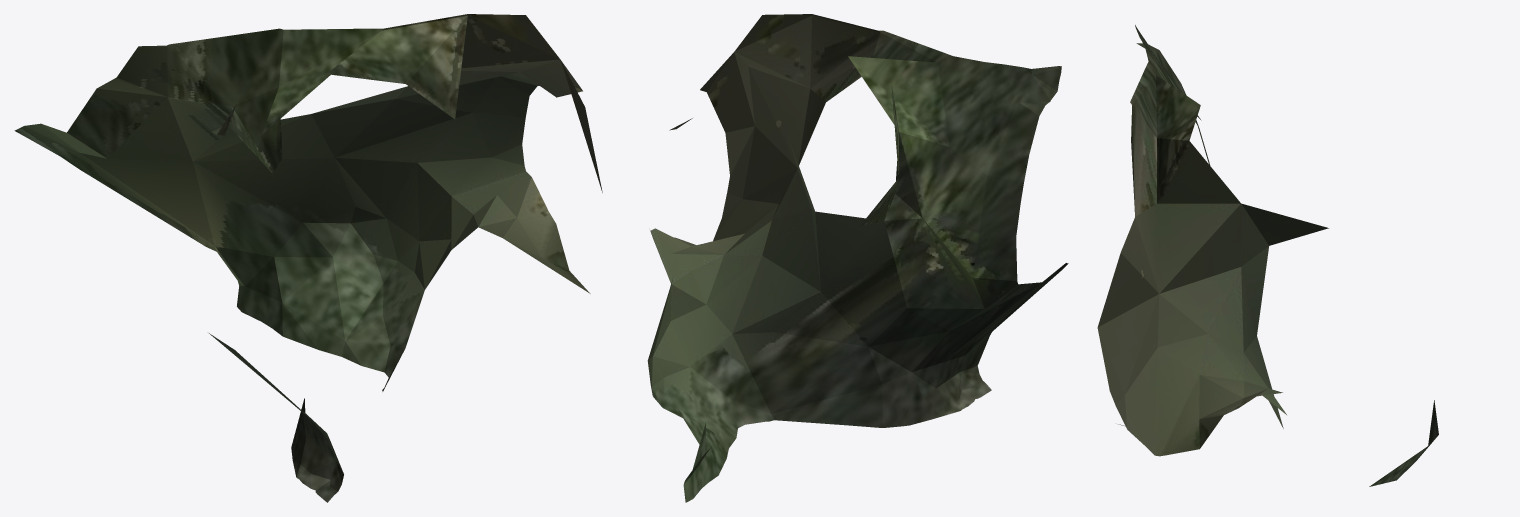
3 views of the same model, side by side, from view 1: azimuth 30°, elevation 25°; view 2: azimuth 150°, elevation 25°; view 3: azimuth 270°, elevation 25° (orthographic). The views are drawn at different scales.
Bounding box in the file's own units: 2.95 × 2.95 × 2.95.
5 materials, 5 textured.
